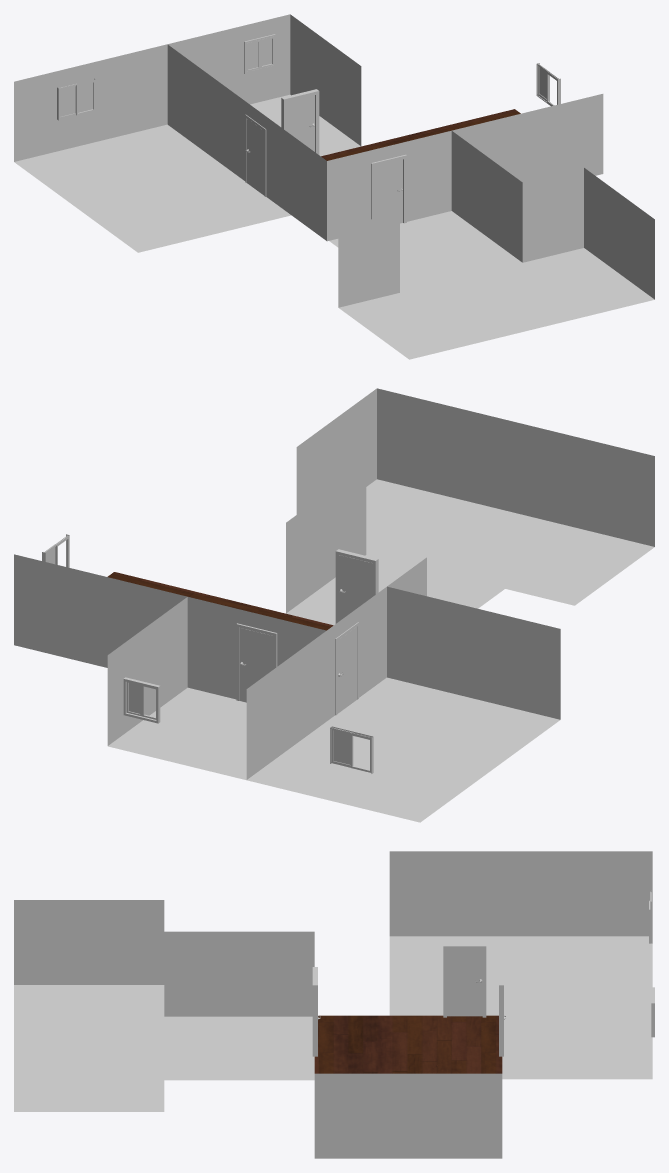
Rendered from scenetest.glb.
3 views of the same model, one above another, from view 1: azimuth 30°, elevation 25°; view 2: azimuth 150°, elevation 25°; view 3: azimuth 270°, elevation 25° (orthographic). The views are drawn at different scales.
Visible parts, largest first — view 1: Floor.001, Room, Room.001, Floor.002, Room.002, Room.003, Floor.003, Floor, Door.002, Door.001, DoorFrame.002, DoorFrame (+1 smaller); view 2: Room.001, Room.002, Floor.001, Floor.002, Room, Floor.003, Room.003, Door.002, Door, Floor, Door.001, DoorFrame (+2 smaller); view 3: Floor.001, Room.001, Room.002, Floor.002, Room, Floor, Floor.003, Door.001, DoorFrame.001, DoorFrame, DoorFrame.002.
Part boxes in pixels (x1,y1,x2,y2): Floor.001: [329, 211, 654, 359]; Room: [238, 94, 603, 241]; Room.001: [338, 131, 654, 307]; Floor.002: [14, 124, 291, 252]; Room.002: [14, 44, 238, 175]; Room.003: [168, 14, 361, 145]; Floor.003: [250, 94, 360, 156]; Floor: [321, 109, 520, 160]; Door.002: [287, 95, 314, 151]; Door.001: [247, 119, 264, 195]; DoorFrame.002: [281, 89, 319, 154]; DoorFrame: [371, 154, 406, 223]; Room.001: [286, 388, 654, 613]; Room.002: [246, 586, 560, 779]; Floor.001: [286, 479, 654, 625]; Floor.002: [247, 677, 560, 822]; Room: [14, 554, 426, 720]; Floor.003: [108, 687, 246, 780]; Room.003: [107, 597, 187, 745]; Door.002: [239, 627, 273, 702]; Door: [338, 555, 372, 621]; Floor: [107, 572, 333, 630]; Door.001: [337, 627, 357, 713]; DoorFrame: [335, 549, 378, 623]; Floor.001: [14, 985, 314, 1111]; Room.001: [14, 900, 314, 1016]; Room.002: [389, 851, 652, 936]; Floor.002: [389, 936, 652, 1015]; Room: [314, 1073, 502, 1158]; Floor: [314, 1015, 502, 1073]; Floor.003: [502, 1015, 652, 1079]; Door.001: [447, 949, 482, 1016]; DoorFrame.001: [443, 944, 486, 1017]; DoorFrame: [312, 967, 317, 1056]; DoorFrame.002: [499, 967, 503, 1056].
Bounding box in the file's own units: 14 × 2.5 × 17.06.
1 material, 1 textured.
